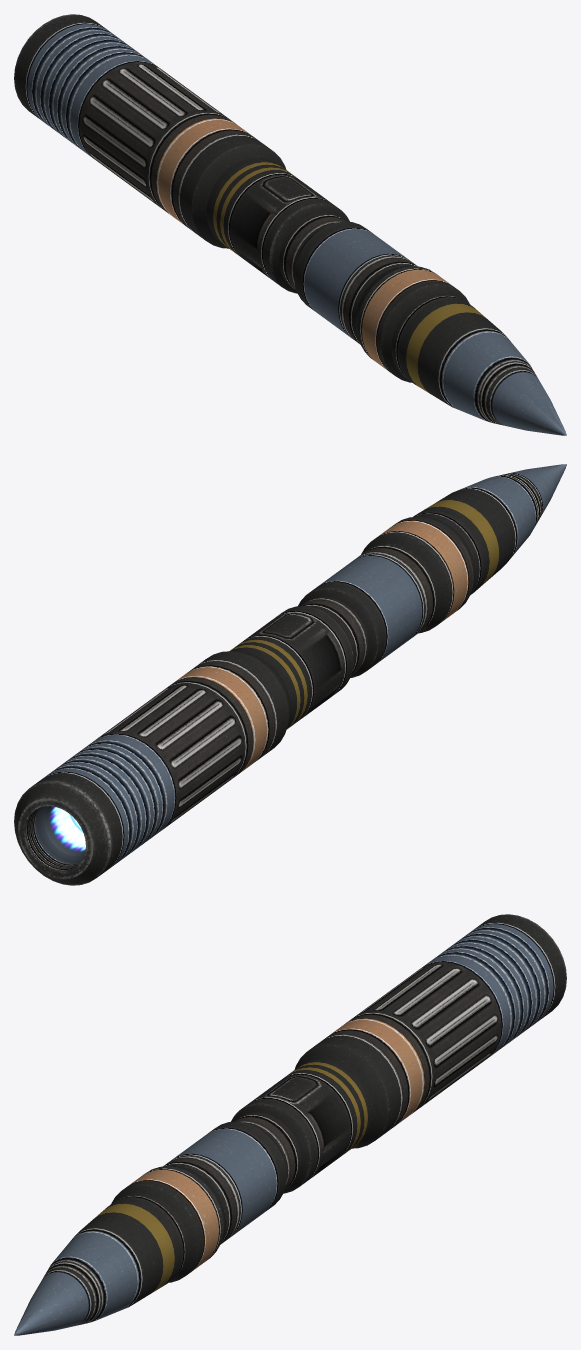
The model's file is KR45FusionTorpedo.fbx.
3 views of the same model, one above another, from view 1: azimuth 30°, elevation 25°; view 2: azimuth 150°, elevation 25°; view 3: azimuth 330°, elevation 25° (orthographic).
Parts seen in each view (by area): view 1: KR45FusionTorpedo; view 2: KR45FusionTorpedo; view 3: KR45FusionTorpedo.
Part boxes in pixels (x1=…): KR45FusionTorpedo: x1=14, y1=14, x2=566, y2=435; KR45FusionTorpedo: x1=14, y1=464, x2=566, y2=885; KR45FusionTorpedo: x1=14, y1=914, x2=566, y2=1335.
Size of the model in its own units: 438 by 438 by 3986.
